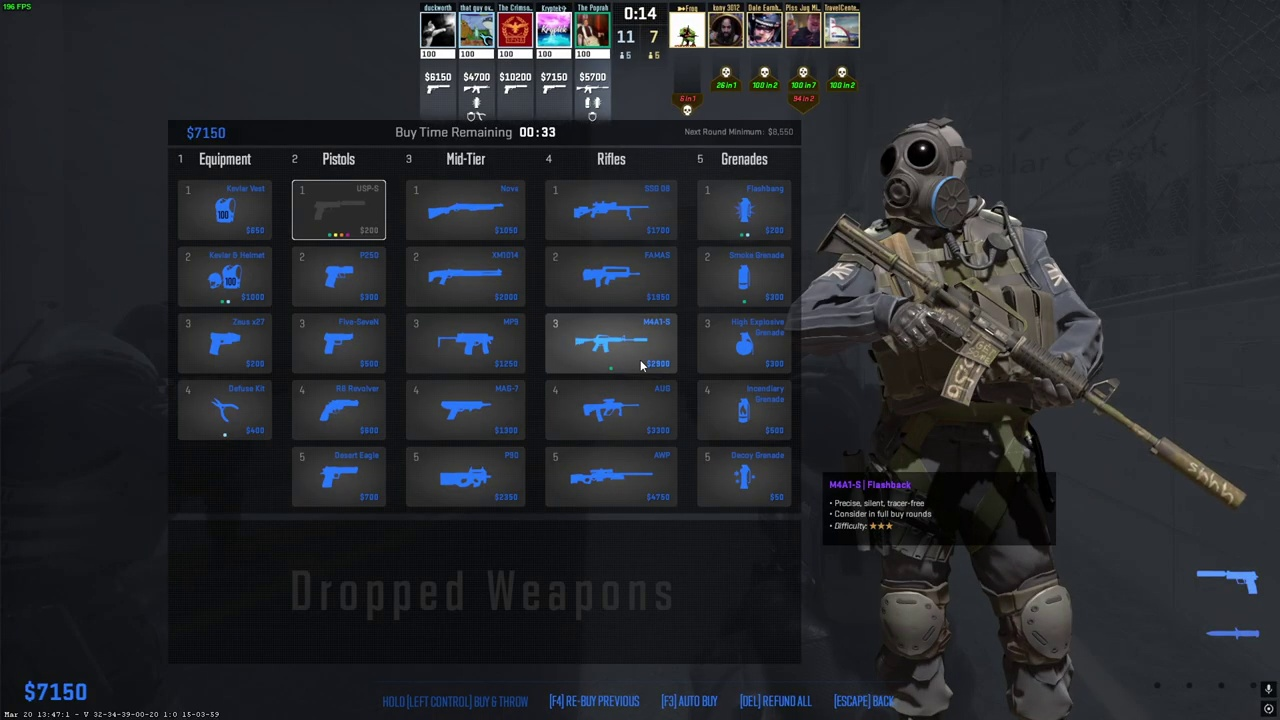CT: (852, 124, 1088, 720)
